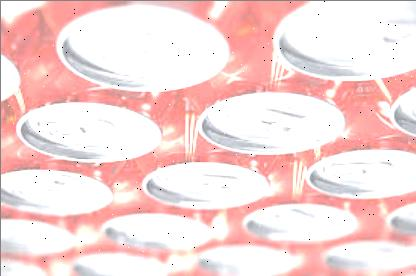Can: (174, 10, 360, 160), (8, 24, 180, 164), (43, 1, 251, 93), (134, 95, 290, 211), (2, 115, 136, 216), (292, 92, 416, 198), (252, 1, 416, 81), (230, 164, 370, 248), (91, 166, 221, 252), (2, 204, 86, 256), (358, 68, 416, 140), (2, 1, 42, 100), (370, 196, 416, 236)
